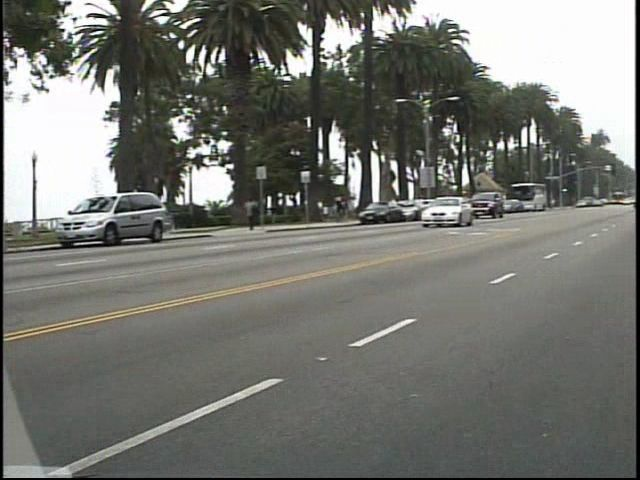person: (248, 191, 270, 231), (338, 189, 357, 223)
